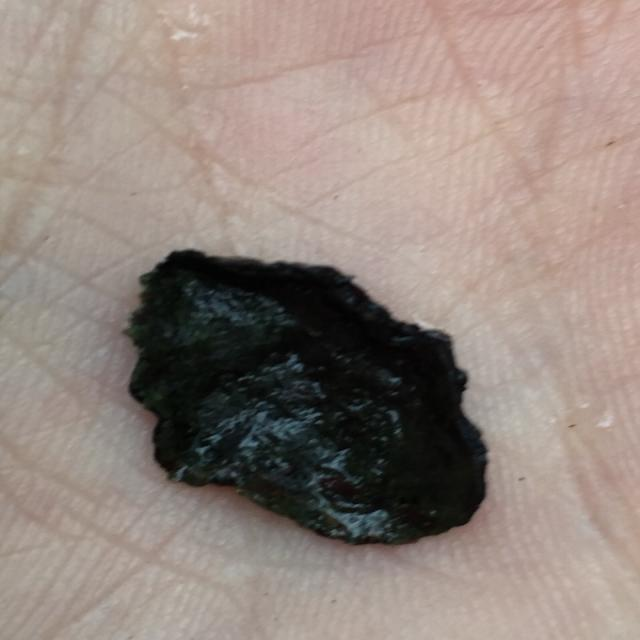Auricularia auricula: (125, 246, 489, 542)
